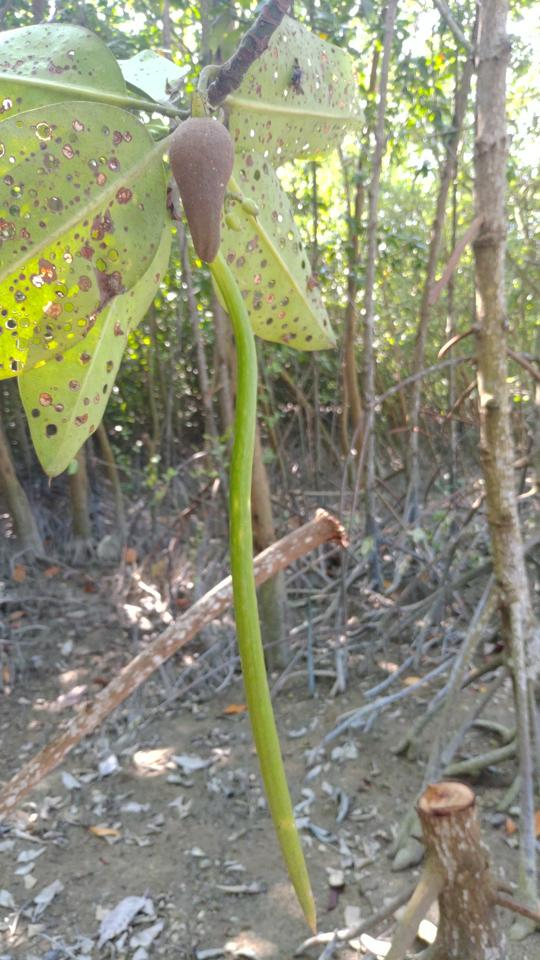mentah: (152, 95, 345, 951)
